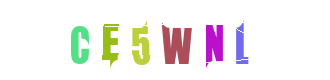5: (125, 0, 205, 80)
C: (39, 0, 119, 80)
E: (85, 0, 165, 80)
L: (200, 0, 280, 80)
N: (174, 0, 254, 80)
W: (136, 0, 216, 80)
